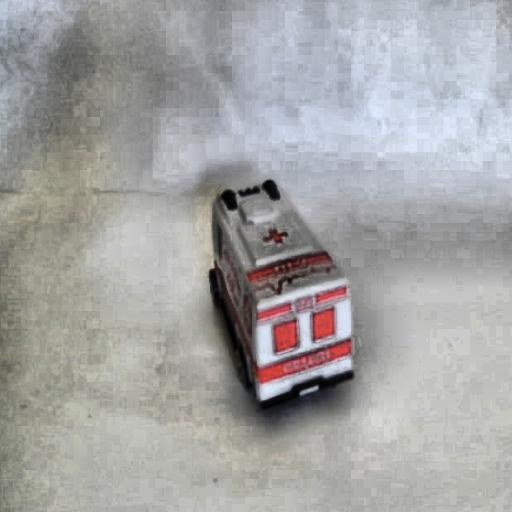ambulance: (208, 178, 354, 410)
